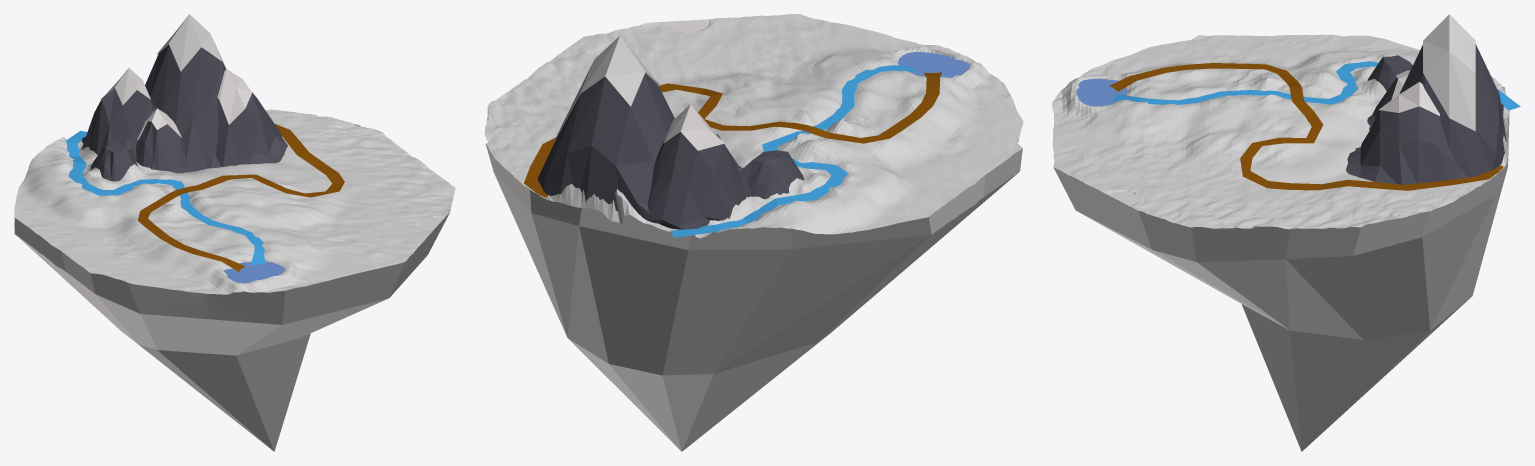
File: Level 2 Ice Berg.fbx
3 renders of one model, left to right at view 1: azimuth 30°, elevation 25°; view 2: azimuth 150°, elevation 25°; view 3: azimuth 270°, elevation 25°, orthographic. The views are drawn at different scales.
Parts seen in each view (by area): view 1: Plane, Plane.002, Plane.001, Plane.004, Plane.003, Plane.005, Plane.006, water; view 2: Plane, Plane.002, Plane.003, Plane.001, Plane.006, water; view 3: Plane, Plane.002, Plane.004, Plane.001, water, Plane.006, Plane.005.
Part boxes in pixels (bbox=[...]): Plane: bbox=[14, 109, 455, 451]; Plane.002: bbox=[145, 14, 226, 171]; Plane.001: bbox=[66, 124, 344, 271]; Plane.004: bbox=[206, 69, 287, 168]; Plane.003: bbox=[82, 67, 155, 154]; Plane.005: bbox=[135, 108, 193, 173]; Plane.006: bbox=[90, 137, 137, 181]; water: bbox=[224, 261, 284, 283]; Plane: bbox=[484, 14, 1023, 451]; Plane.002: bbox=[537, 36, 674, 223]; Plane.003: bbox=[645, 104, 750, 229]; Plane.001: bbox=[524, 65, 941, 237]; Plane.006: bbox=[738, 150, 804, 199]; water: bbox=[898, 52, 969, 77]; Plane: bbox=[1052, 34, 1509, 451]; Plane.002: bbox=[1399, 14, 1506, 177]; Plane.004: bbox=[1346, 82, 1467, 184]; Plane.001: bbox=[1109, 61, 1520, 190]; water: bbox=[1076, 78, 1127, 106]; Plane.006: bbox=[1368, 55, 1412, 91]; Plane.005: bbox=[1367, 70, 1410, 130].
Bounding box in the file's own units: 4474 × 4622 × 4581.
